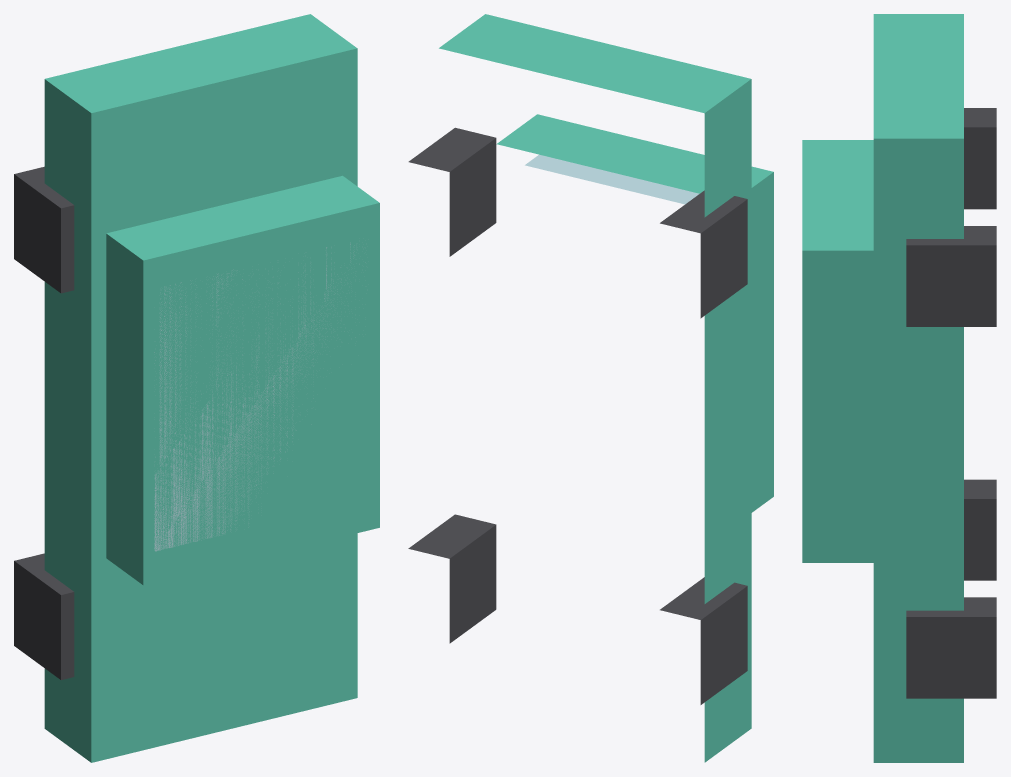
The model's file is car.glb.
3 renders of one model, left to right at view 1: azimuth 30°, elevation 25°; view 2: azimuth 150°, elevation 25°; view 3: azimuth 270°, elevation 25°, orthographic. The views are drawn at different scales.
Size of the model in its own units: 1.98 by 4.2 by 1.19.
